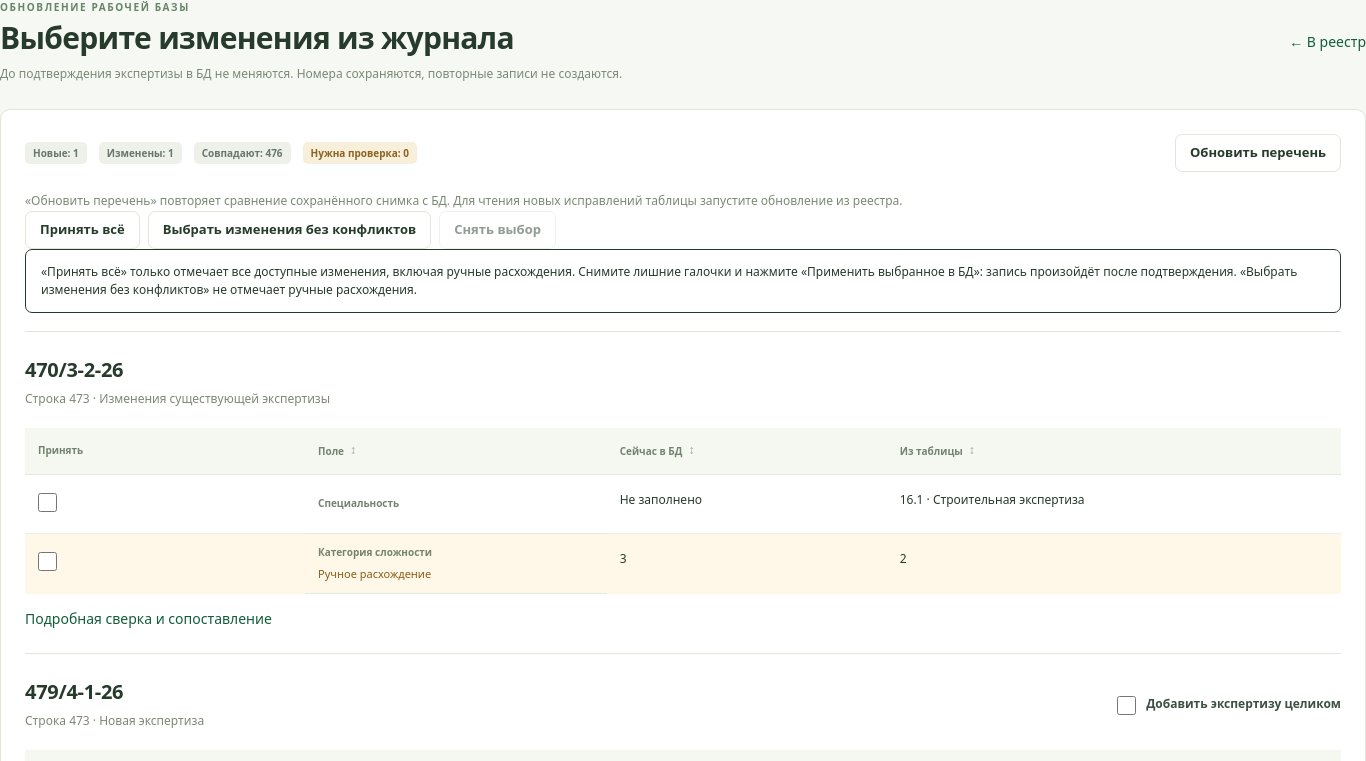
Scenario: accept-all checks every eligible field and new row without applying or requesting confirmation
Click the button "Принять всё": (82, 230) [25,211,140,249]
(page scrolled)
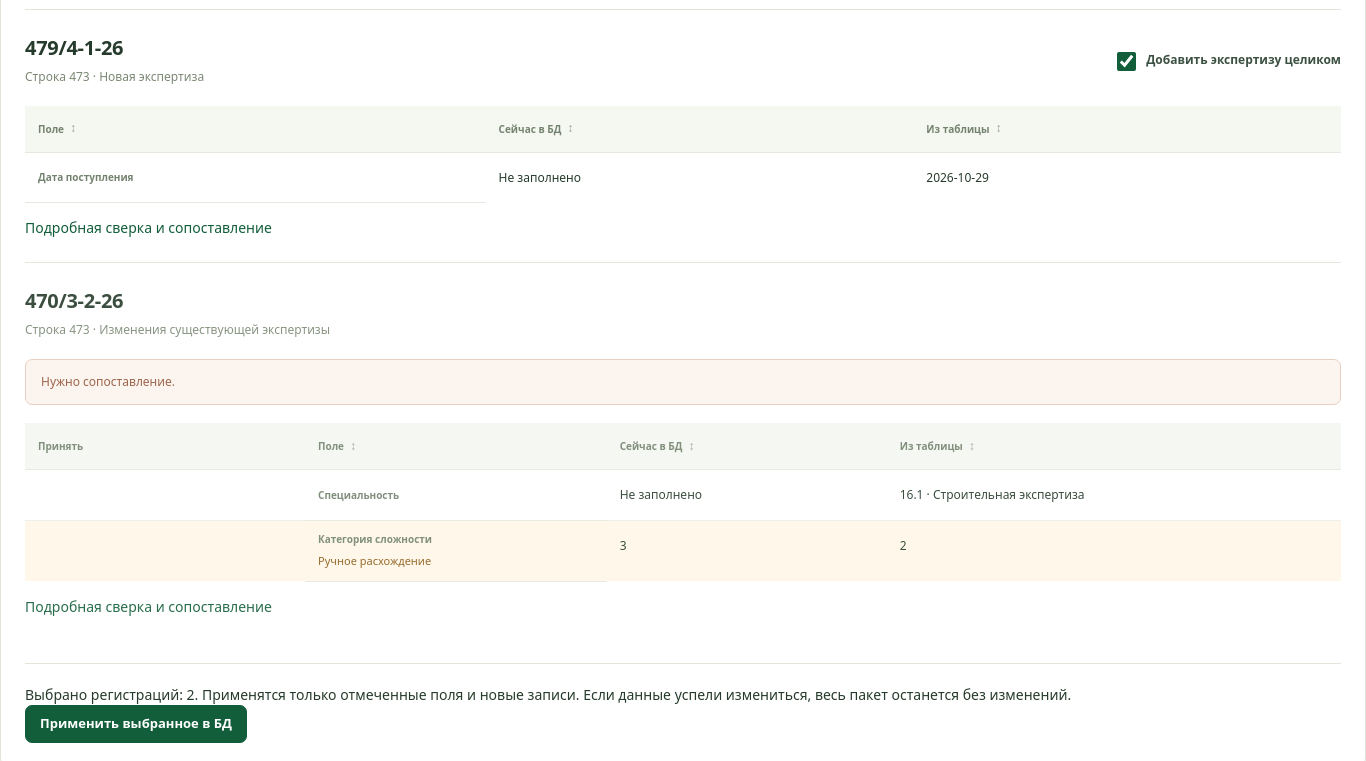
expect the checkbox labelled "Добавить экспертизу целиком" is checked: met, box [1117,52,1136,71]
expect the button "Применить выбранное в БД" is enabled: met, box [25,705,247,743]
